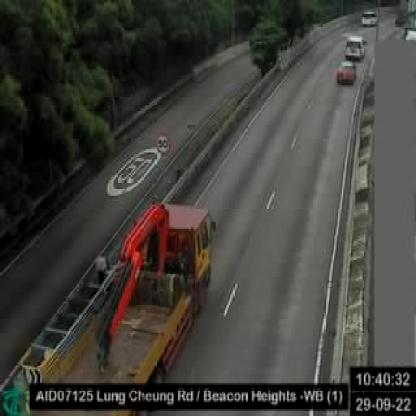Car: (342, 33, 364, 61), (333, 57, 356, 82), (360, 10, 380, 28)
Truck: (7, 205, 221, 414)
